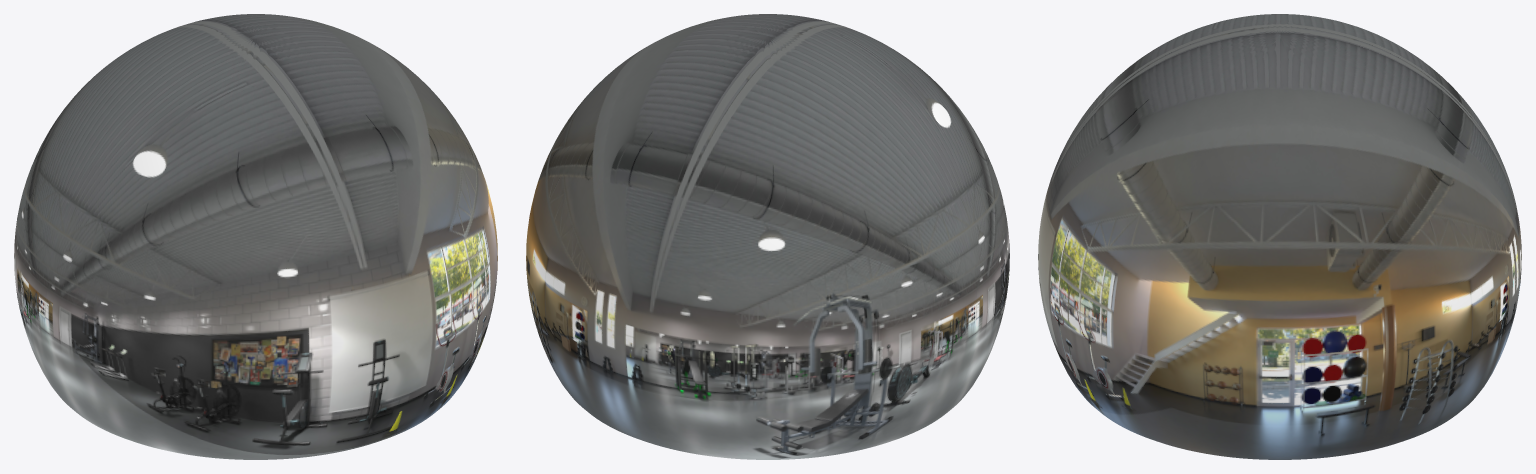
Rendered from Interior 68.glb.
3 views of the same model, side by side, from view 1: azimuth 30°, elevation 25°; view 2: azimuth 150°, elevation 25°; view 3: azimuth 270°, elevation 25° (orthographic).
Parts seen in each view (by area): view 1: Sphere; view 2: Sphere; view 3: Sphere.
Part boxes in pixels (left/top/right/bottom): Sphere: left=14, top=14, right=497, bottom=459; Sphere: left=526, top=14, right=1009, bottom=459; Sphere: left=1038, top=14, right=1521, bottom=459.
Bounding box in the file's own units: 19.74 × 15.53 × 19.74.
1 material, 1 textured.
